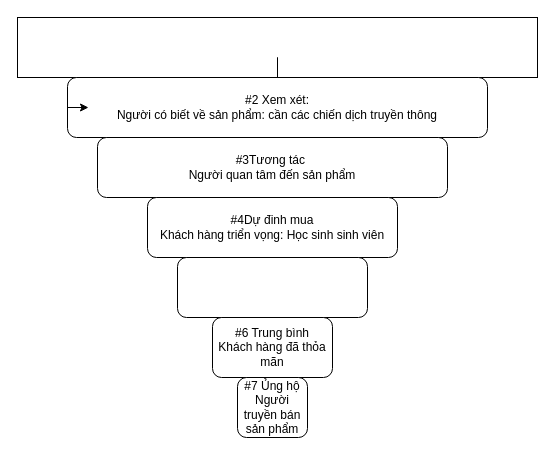
Some shapes in this 555 by 455 pixel diagram are drawn without their labels. The shapes that lost their labels are listed below. From the top down, each one's centre as x and y in pixels, then its label:
At [277,47]: "Nhận diện Khách hàng tiềm năng Học sinh sinh viên , Nhân viên văn phòng".
At [272,287]: "#5 Mua hàng Khách hàng thực sự Phụ huynh học sinh hoặc sinh viên nv văn phòng".
